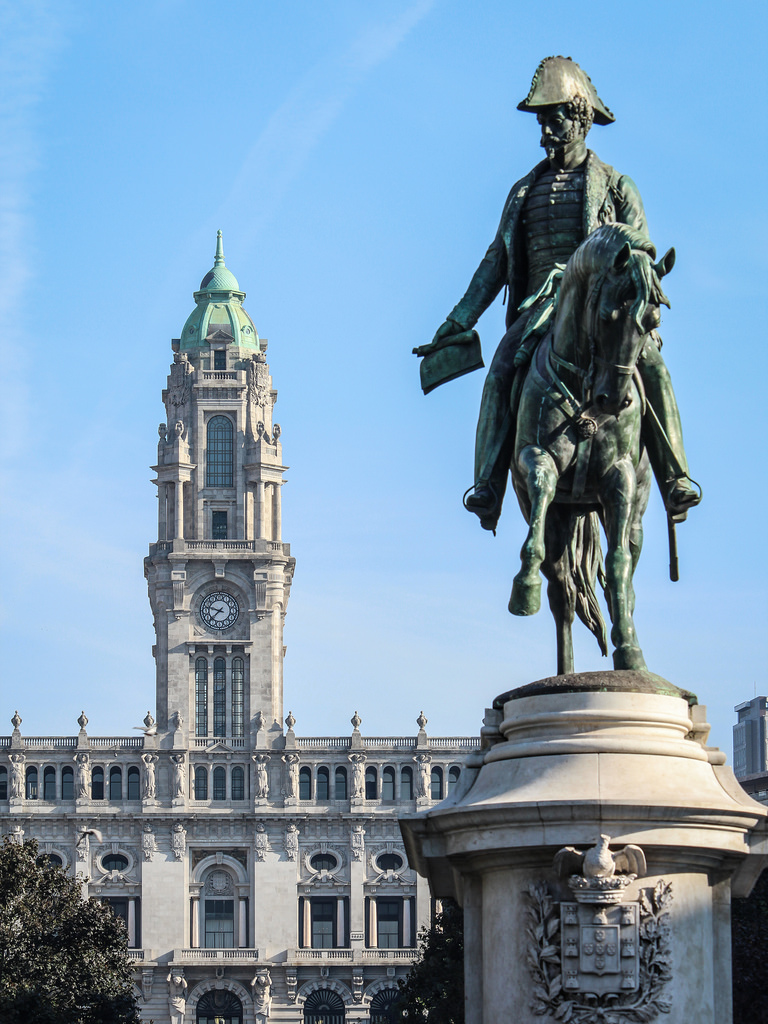camara: (0, 229, 484, 1023)
